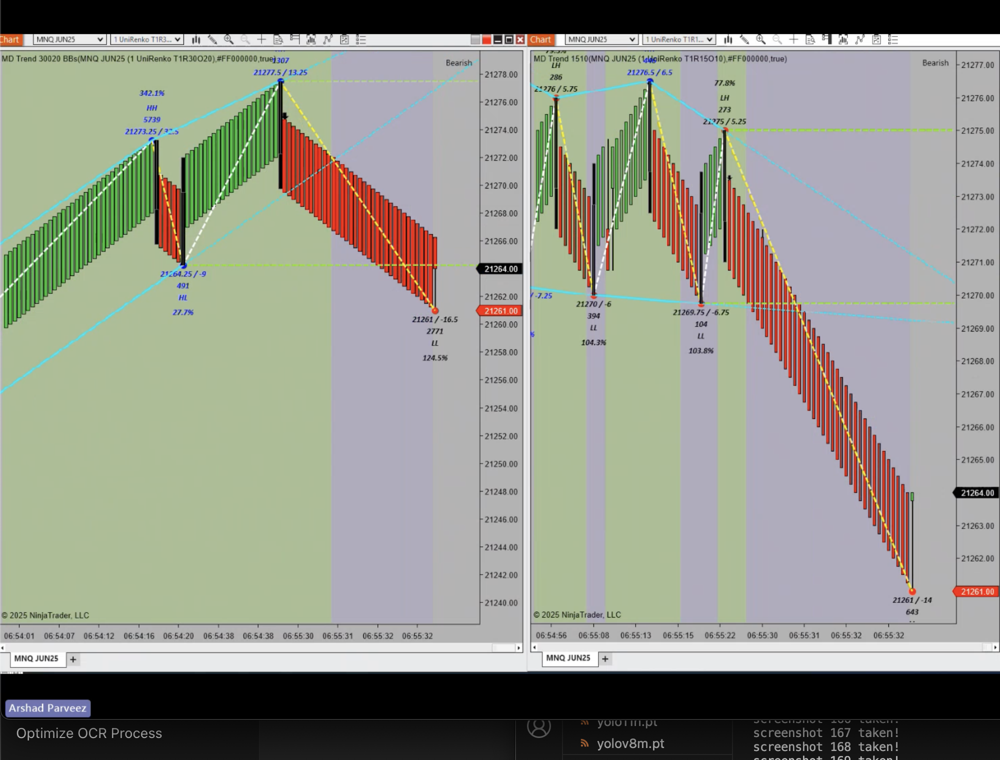HH: (140, 98, 163, 116)
HL: (174, 290, 195, 307)
LH: (546, 57, 569, 75), (716, 91, 743, 106)
LL: (689, 324, 715, 347), (583, 318, 606, 339), (424, 335, 447, 353)
